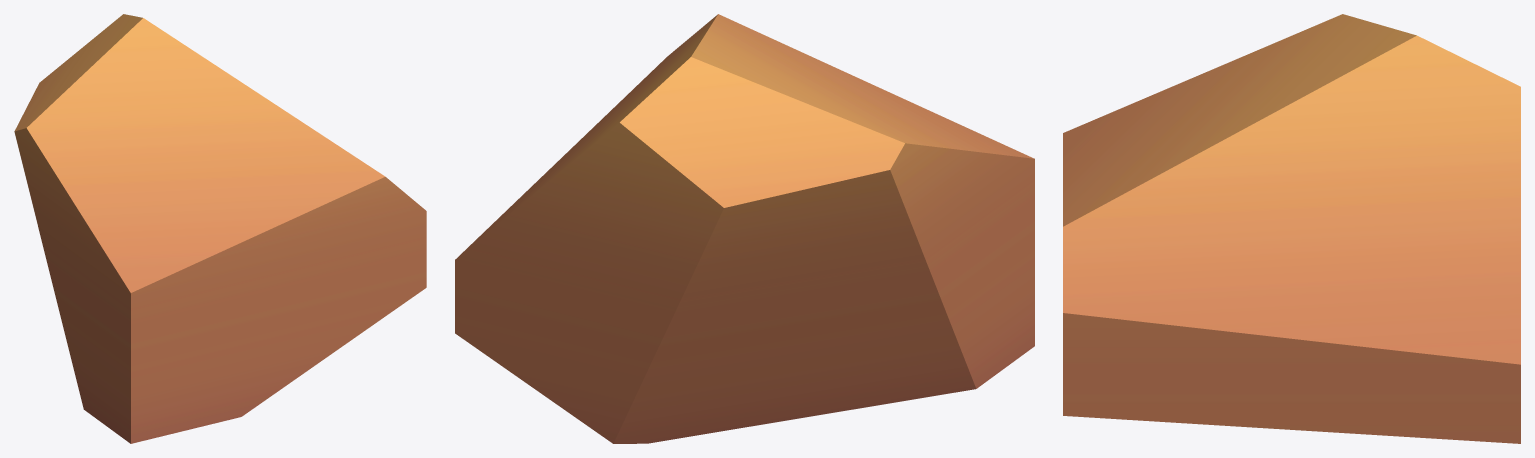
Rendered from Rock_2.fbx.
3 renders of one model, left to right at view 1: azimuth 30°, elevation 25°; view 2: azimuth 150°, elevation 25°; view 3: azimuth 270°, elevation 25°, orthographic. The views are drawn at different scales.
Parts seen in each view (by area): view 1: Rock_2; view 2: Rock_2; view 3: Rock_2.
Boxes of the visible parts, x1,y1,x2,y2 form: Rock_2: (14,14,426,443); Rock_2: (455,14,1034,443); Rock_2: (1063,14,1520,443).
Bounding box in the file's own units: 201 × 191 × 201.
